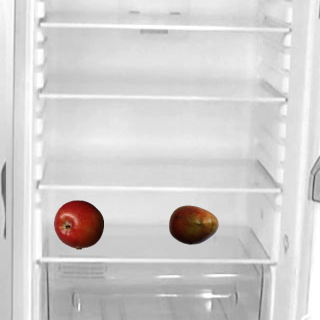Apple Braeburn: (53, 199, 103, 249)
Mango Red: (168, 199, 218, 249)
